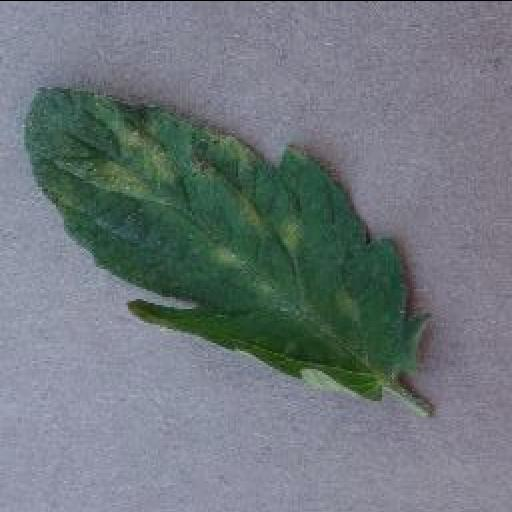disease_tomato: (21, 86, 435, 398)
